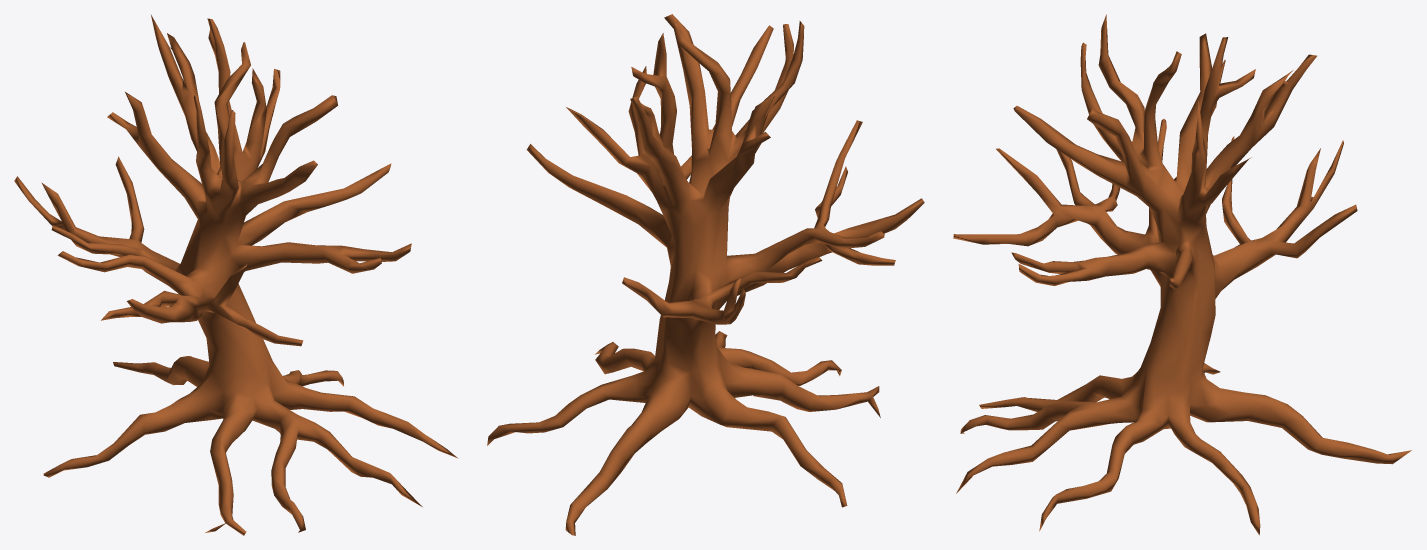
The model's file is big_tree.glb.
3 renders of one model, left to right at view 1: azimuth 30°, elevation 25°; view 2: azimuth 150°, elevation 25°; view 3: azimuth 270°, elevation 25°, orthographic. The views are drawn at different scales.
Visible parts, largest first — view 1: tree; view 2: tree; view 3: tree.
Boxes of the visible parts, x1=… form: tree: x1=14, y1=15, x2=458, y2=535; tree: x1=487, y1=14, x2=924, y2=535; tree: x1=953, y1=14, x2=1411, y2=535.
Size of the model in its own units: 14.86 by 17.51 by 17.17.
